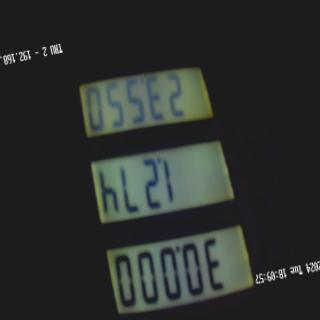screen: (53, 19, 261, 320)
